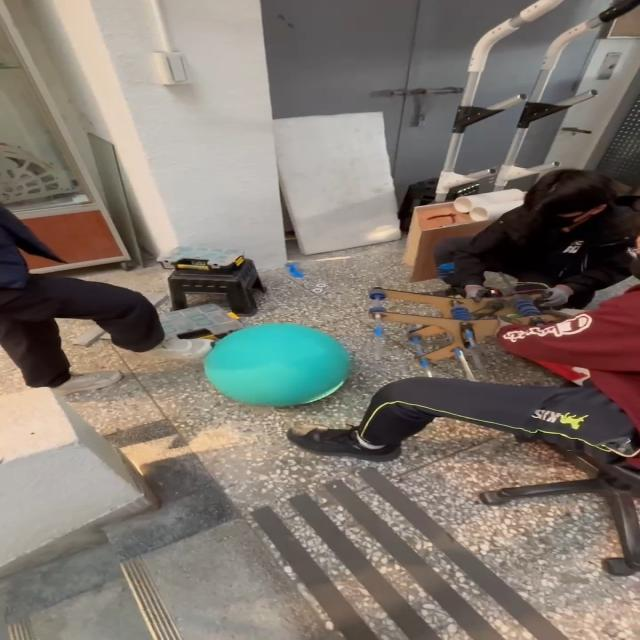ALGAE: (201, 322, 352, 408)
